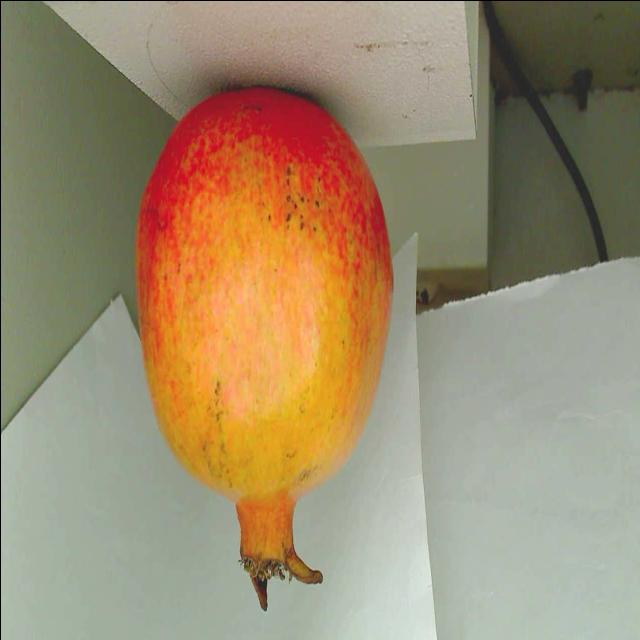pomegranate: (126, 74, 392, 609)
